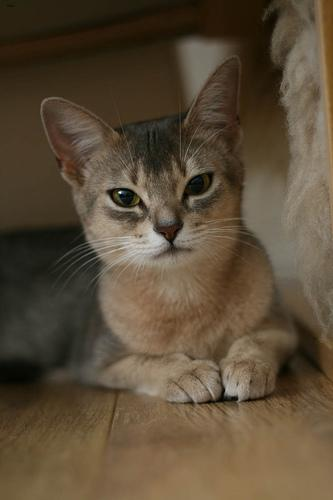cat-Abyssinian: (38, 55, 241, 265)
